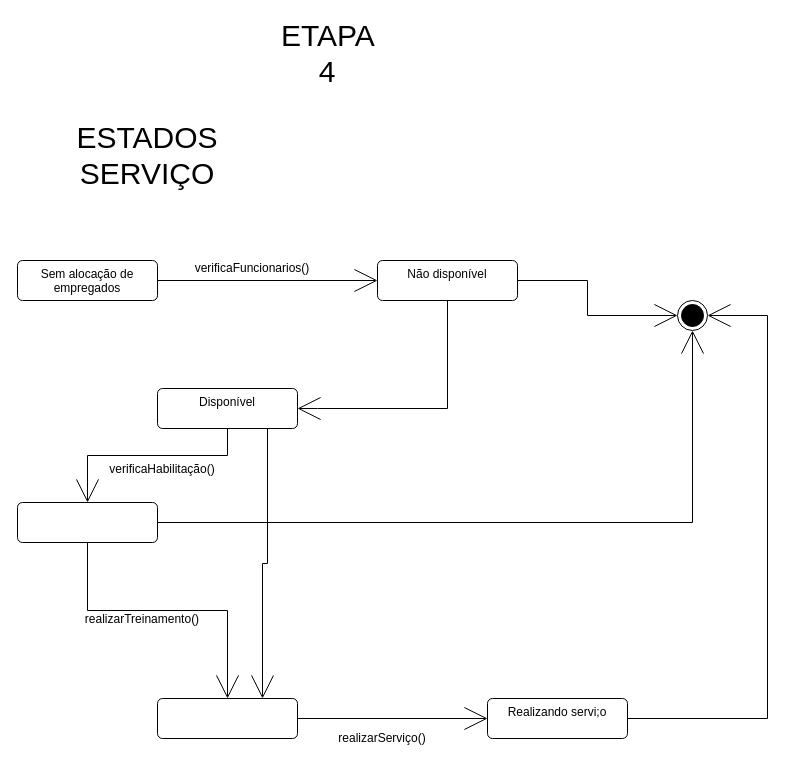
Image size: 808x766. Some labels were removed from this diagram. The shapes that lost their labels are listed below. From the top down, each one's box as (x1, y1, x2, y2) in pixels, then its label:
(16, 502, 158, 542): Não Habilitado
(156, 698, 298, 738): Habilitado
